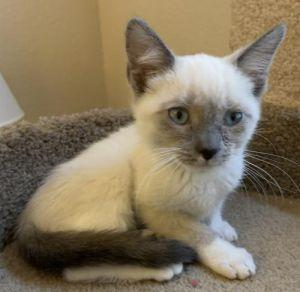siamese: (121, 7, 291, 184)
